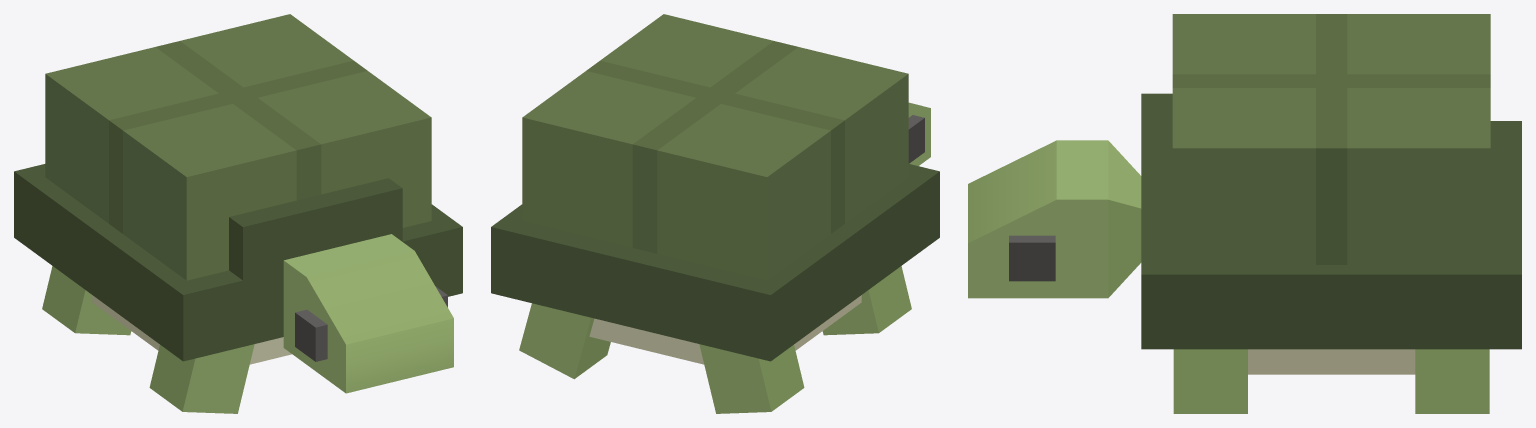
Rendered from ToyTurtle.glb.
3 renders of one model, left to right at view 1: azimuth 30°, elevation 25°; view 2: azimuth 150°, elevation 25°; view 3: azimuth 270°, elevation 25°, orthographic. The views are drawn at different scales.
Parts seen in each view (by area): view 1: SI_Prop_Toy_Turtle_01; view 2: SI_Prop_Toy_Turtle_01; view 3: SI_Prop_Toy_Turtle_01.
Boxes of the visible parts, left/top/right/bottom form: SI_Prop_Toy_Turtle_01: left=14, top=14, right=462, bottom=413; SI_Prop_Toy_Turtle_01: left=491, top=14, right=939, bottom=413; SI_Prop_Toy_Turtle_01: left=968, top=14, right=1521, bottom=413.
Size of the model in its own units: 0.00252 by 0.00215 by 0.00384.
Materials: 1 (1 with a texture image).
